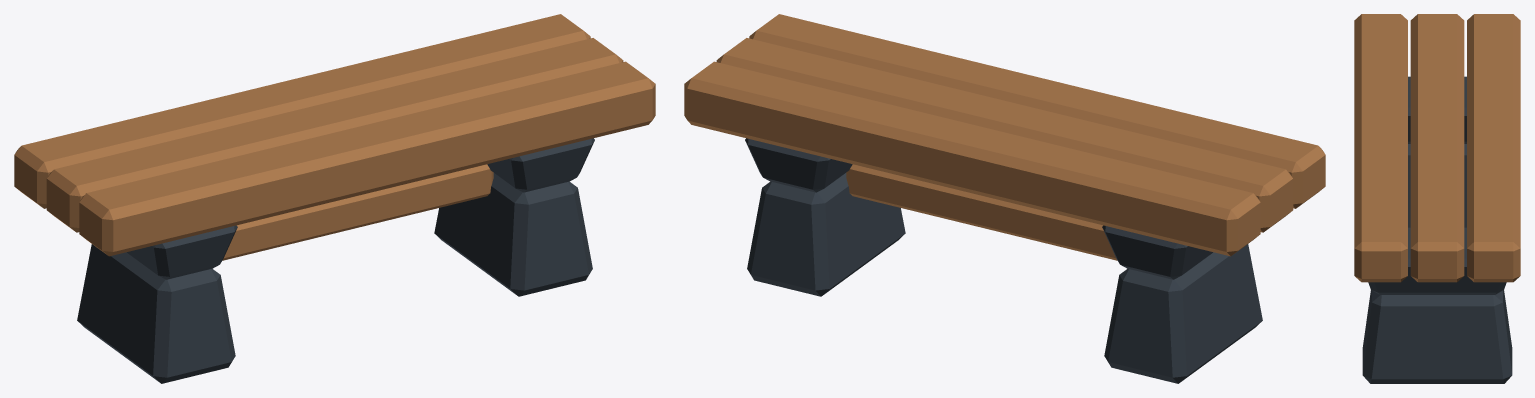
File: Gallery_Bench.fbx
3 views of the same model, side by side, from view 1: azimuth 30°, elevation 25°; view 2: azimuth 150°, elevation 25°; view 3: azimuth 270°, elevation 25° (orthographic). The views are drawn at different scales.
Visible parts, largest first — view 1: Wood, FrameDark; view 2: Wood, FrameDark; view 3: Wood, FrameDark.
Boxes of the visible parts, x1,y1,x2,y2 form: Wood: [14, 14, 655, 260]; FrameDark: [77, 138, 594, 383]; Wood: [684, 14, 1325, 260]; FrameDark: [745, 138, 1262, 383]; Wood: [1354, 14, 1520, 282]; FrameDark: [1362, 76, 1512, 383].
Size of the model in its own units: 6.2 by 2.06 by 1.86.
